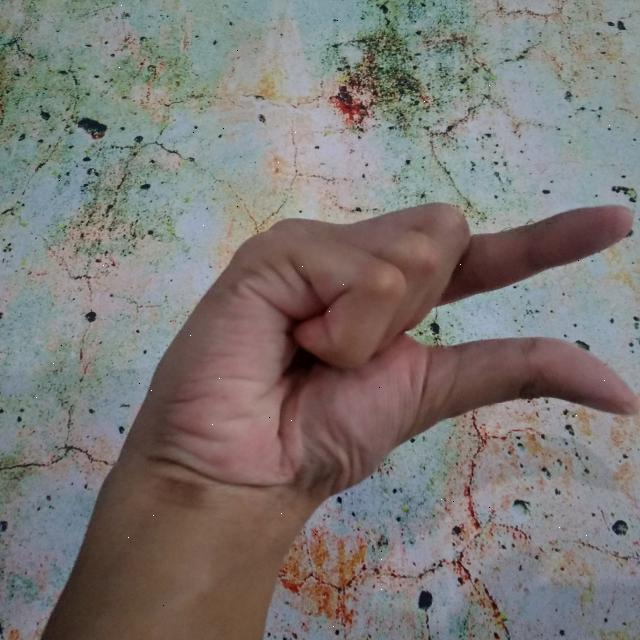G: (39, 199, 640, 640)
